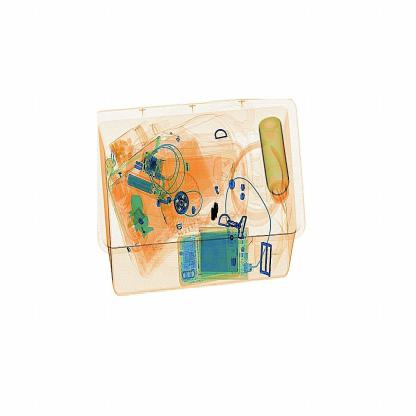knife: (203, 196, 230, 226)
